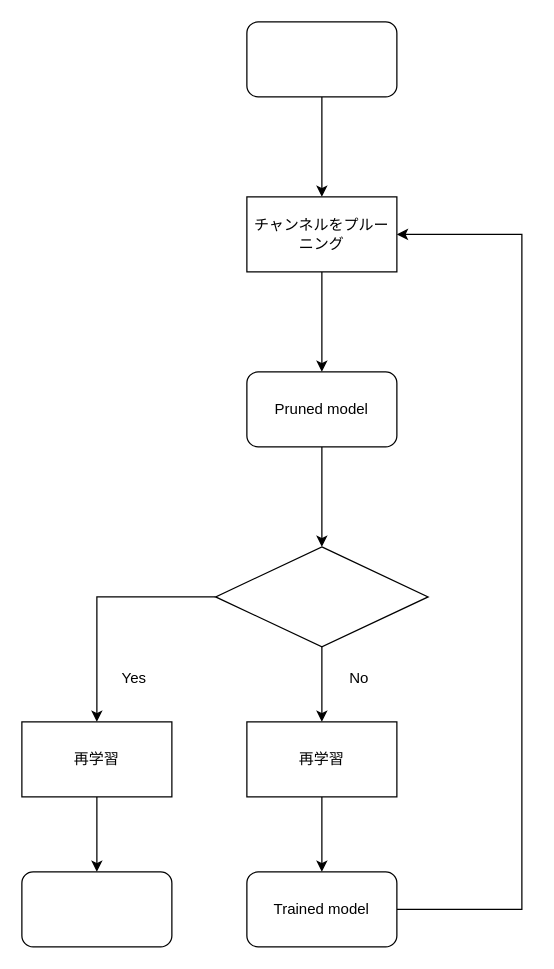
The diagram is 554 pixels wide and 969 high, and some of its shapes have lost their labels. Here are the shapes that lost their labels. From the top down, the box of each, then its label:
(246, 21, 397, 97): .pt model
(214, 546, 428, 647): 指定されたループ数 についたか
(21, 871, 172, 947): Desired model
